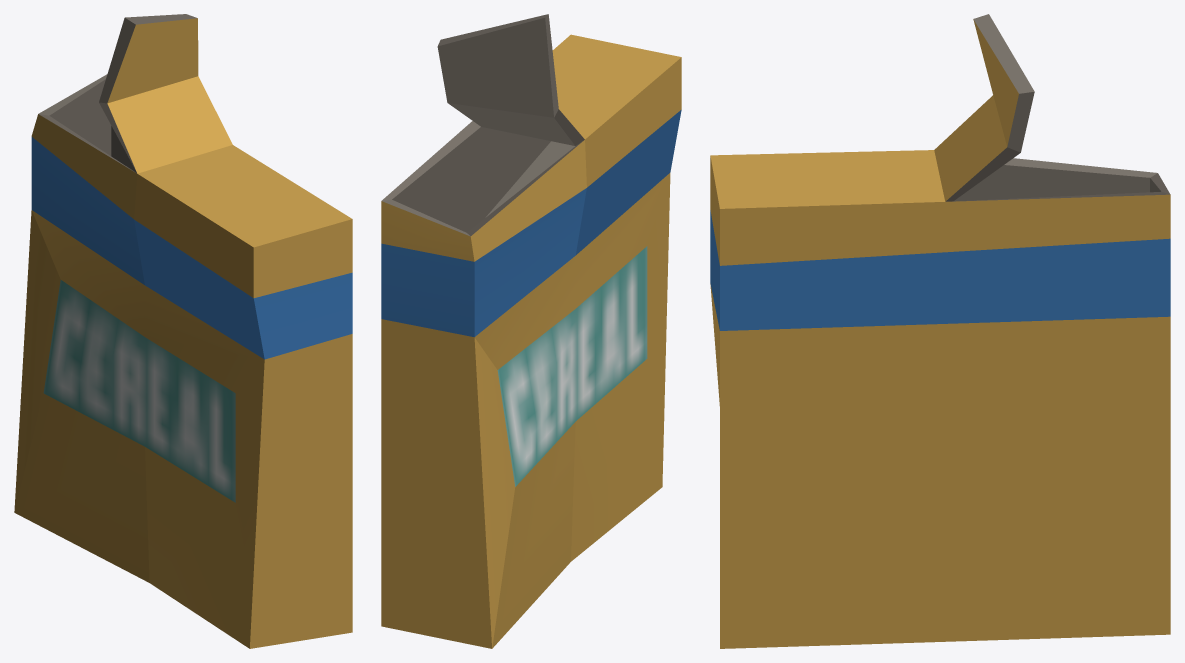
Rendered from SM_Item_Shop_Goods_05.obj.
3 views of the same model, side by side, from view 1: azimuth 30°, elevation 25°; view 2: azimuth 150°, elevation 25°; view 3: azimuth 270°, elevation 25° (orthographic). The views are drawn at different scales.
Parts seen in each view (by area): view 1: SM_Item_Shop_Goods_05_0; view 2: SM_Item_Shop_Goods_05_0; view 3: SM_Item_Shop_Goods_05_0.
Part boxes in pixels (box(x1,y1,x2,y2)): SM_Item_Shop_Goods_05_0: box(14, 14, 352, 648); SM_Item_Shop_Goods_05_0: box(381, 14, 681, 648); SM_Item_Shop_Goods_05_0: box(710, 14, 1170, 648).
Bounding box in the file's own units: 0.107 × 0.4278 × 0.3064.
Materials: 1 (1 with a texture image).
